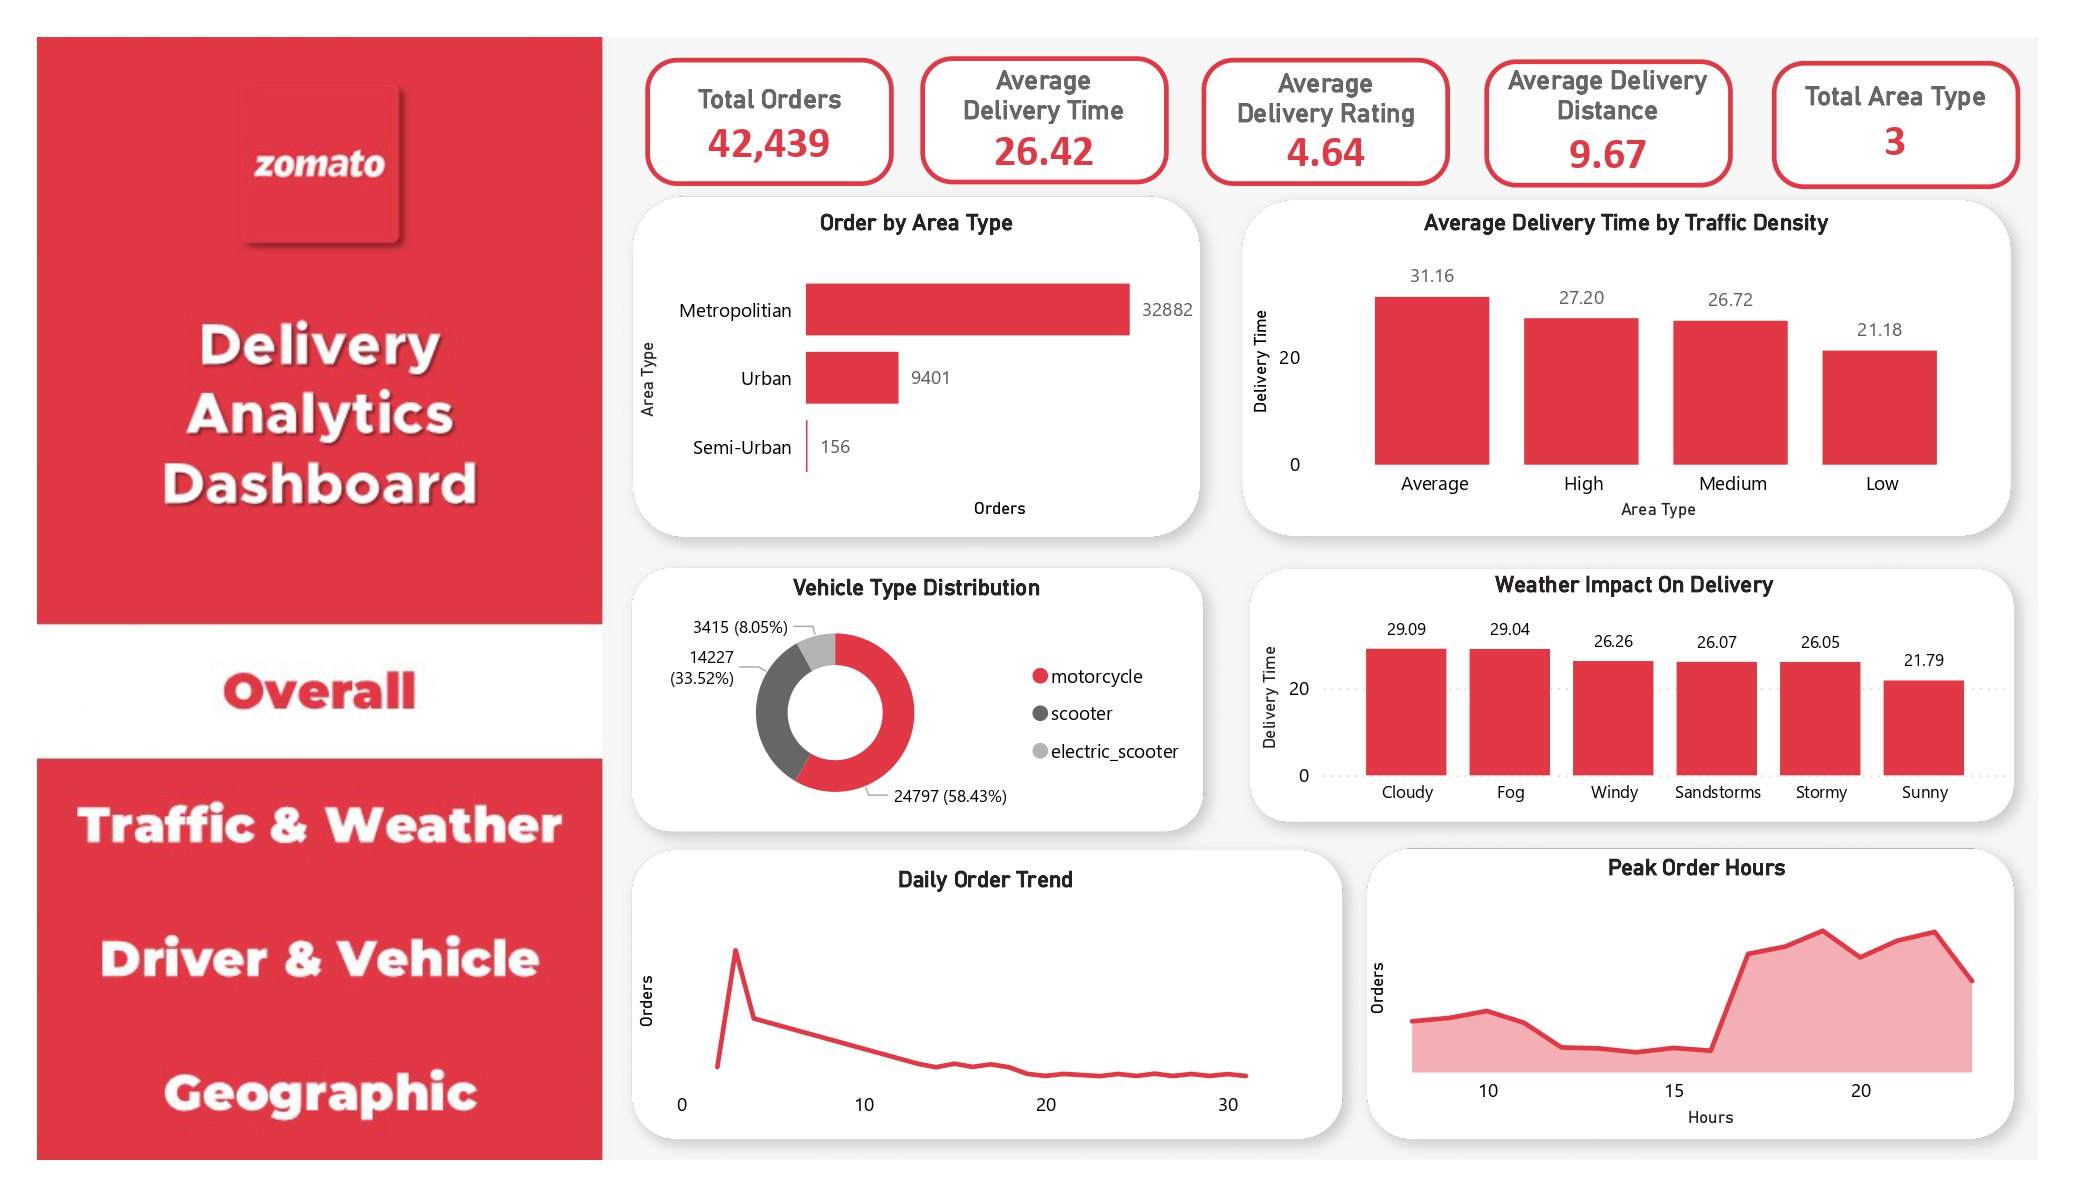

What the dashboard file says about the page in this screenshot:
{"tool":"powerbi","page":{"name":"Overall","canvas":[1280,720],"ordinal":1},"visuals":[{"type":"shape","box":[1109.7,15.5,158.6,81.8],"z":0,"group":"g2"},{"type":"shape","box":[365.7,87.4,392.8,248],"z":0,"group":"g12"},{"type":"actionButton","box":[0,461.1,363.6,87.8],"z":0},{"type":"shape","box":[926.4,14.5,158.6,81.8],"z":1000,"group":"g3"},{"type":"card","title":"Average Delivery Time","fields":{"Values":["Avg(Sorted_Zomato.Time_taken (min))"]},"box":[577.6,16.8,133.9,72.4],"z":1000,"group":"g11"},{"type":"card","title":"Average Delivery Rating","fields":{"Values":["Avg(Sorted_Zomato.Delivery_person_Ratings)"]},"box":[757.5,19.2,134.7,69.2],"z":1000,"group":"g9"},{"type":"card","title":"Total Area Type","fields":{"Values":["Count(Sorted_Zomato.City)"]},"box":[1116,27.5,146,57.9],"z":1000,"group":"g13"},{"type":"actionButton","box":[1.4,548.9,363.6,87.8],"z":1000},{"type":"shape","box":[745.5,12.9,158.6,81.8],"z":2000,"group":"g4"},{"type":"actionButton","box":[0,632.6,363.6,87.8],"z":2000},{"type":"shape","box":[565.2,12.1,158.6,81.8],"z":3000,"group":"g5"},{"type":"group","id":"g1","title":"Group 1","box":[389.1,13.4,158.6,81.8],"z":3000},{"type":"shape","box":[389.1,13.4,158.6,81.8],"z":4000,"group":"g1"},{"type":"group","id":"g2","title":"Group 2","box":[1109.7,15.5,158.6,81.8],"z":4000},{"type":"clusteredBarChart","title":"Order by Area Type","fields":{"Y":["Count(Sorted_Zomato.ID)"],"Category":["Sorted_Zomato.City"]},"box":[379.5,110.1,365.1,202.7],"z":4000,"group":"g12"},{"type":"group","id":"g3","title":"Group 6","box":[926.4,14.5,158.6,81.8],"z":5000},{"type":"card","title":"Average Delivery Distance","fields":{"Values":["Avg(Sorted_Zomato.Delivery_Distance_km)"]},"box":[932.7,17,146,76.8],"z":5000,"group":"g3"},{"type":"group","id":"g4","title":"Group 7","box":[745.5,12.9,158.6,81.8],"z":6000},{"type":"group","id":"g5","title":"Group 8","box":[565.2,12.1,158.6,81.8],"z":7000},{"type":"card","title":"Total Orders","fields":{"Values":["Count(Sorted_Zomato.ID)"]},"box":[401.7,29.8,133.4,55.4],"z":8000,"group":"g1"},{"type":"group","id":"g6","title":"Group 9","box":[365.1,323.6,395.7,199.1],"z":8000},{"type":"group","id":"g7","title":"Group 10","box":[761.2,325.4,518.8,191.8],"z":9000},{"type":"shape","box":[756.5,89.3,522.4,244.9],"z":10000,"group":"g14"},{"type":"group","id":"g8","title":"Group 11","box":[364.7,504.7,484.7,215.3],"z":10000},{"type":"group","id":"g9","title":"Group 3","box":[757.5,19.2,134.7,69.2],"z":11000,"group":"g4"},{"type":"clusteredColumnChart","title":"Average Delivery Time by Traffic Density","fields":{"Y":["Avg(Sorted_Zomato.Time_taken (min))"],"Category":["Sorted_Zomato.Road_traffic_density"]},"box":[772.8,110.4,489.7,202.7],"z":11000,"group":"g14"},{"type":"group","id":"g10","title":"Group 12","box":[835.7,504.3,444.3,215.7],"z":11000},{"type":"group","id":"g11","title":"Group 4","box":[577.6,16.8,133.9,72.4],"z":12000,"group":"g5"},{"type":"group","id":"g12","title":"Group 13","box":[365.7,87.4,392.8,248],"z":12000},{"type":"shape","box":[364.7,504.7,484.7,215.3],"z":12000,"group":"g8"},{"type":"group","id":"g13","title":"Group 5","box":[1116,27.5,146,57.9],"z":13000,"group":"g2"},{"type":"group","id":"g14","title":"Group 14","box":[756.5,89.3,522.4,244.9],"z":13000},{"type":"lineChart","title":"Daily Order Trend","fields":{"Y":["Count(Sorted_Zomato.ID)"],"Category":["Sorted_Zomato.Order_Date.Variation.Date Hierarchy.Day"]},"box":[379.2,530.8,455.7,170],"z":13000,"group":"g8"},{"type":"shape","box":[835.7,504.3,444.3,215.7],"z":14000,"group":"g10"},{"type":"shape","box":[761.2,325.4,518.8,191.8],"z":15000,"group":"g7"},{"type":"shape","box":[365.1,323.6,395.7,199.1],"z":16000,"group":"g6"},{"type":"areaChart","title":"Peak Order Hours","fields":{"Y":["Count(Sorted_Zomato.ID)"],"Category":["Sorted_Zomato.Order Hour"]},"box":[846.4,523.6,430,178.6],"z":17000,"group":"g10"},{"type":"donutChart","title":"Vehicle Type Distribution","fields":{"Y":["Count(Sorted_Zomato.ID)"],"Category":["Sorted_Zomato.Type_of_vehicle"]},"box":[380.5,344,365,158.3],"z":18000,"group":"g6"},{"type":"clusteredColumnChart","title":"Weather Impact On Delivery ","fields":{"Category":["Sorted_Zomato.Weather_conditions"],"Y":["Avg(Sorted_Zomato.Time_taken (min))"]},"box":[778.2,342.1,488.3,158.3],"z":19000,"group":"g7"}]}

Visuals, with their boxes on the page's 1280x720 design canvas (x1, y1, x2, y2). These are canvas units, not pixel positions in the 2075x1200 screenshot, which may show the page scaled, cropped or inside an application window:
shape: x1=1110 y1=16 x2=1268 y2=97
shape: x1=366 y1=87 x2=758 y2=335
actionButton: x1=0 y1=461 x2=364 y2=549
shape: x1=926 y1=14 x2=1085 y2=96
"Average Delivery Time" card: x1=578 y1=17 x2=712 y2=89
"Average Delivery Rating" card: x1=758 y1=19 x2=892 y2=88
"Total Area Type" card: x1=1116 y1=28 x2=1262 y2=85
actionButton: x1=1 y1=549 x2=365 y2=637
shape: x1=746 y1=13 x2=904 y2=95
actionButton: x1=0 y1=633 x2=364 y2=720
shape: x1=565 y1=12 x2=724 y2=94
"Group 1" group: x1=389 y1=13 x2=548 y2=95
shape: x1=389 y1=13 x2=548 y2=95
"Group 2" group: x1=1110 y1=16 x2=1268 y2=97
"Order by Area Type" clusteredBarChart: x1=380 y1=110 x2=745 y2=313
"Group 6" group: x1=926 y1=14 x2=1085 y2=96
"Average Delivery Distance" card: x1=933 y1=17 x2=1079 y2=94
"Group 7" group: x1=746 y1=13 x2=904 y2=95
"Group 8" group: x1=565 y1=12 x2=724 y2=94
"Total Orders" card: x1=402 y1=30 x2=535 y2=85
"Group 9" group: x1=365 y1=324 x2=761 y2=523
"Group 10" group: x1=761 y1=325 x2=1280 y2=517
shape: x1=756 y1=89 x2=1279 y2=334
"Group 11" group: x1=365 y1=505 x2=849 y2=720
"Group 3" group: x1=758 y1=19 x2=892 y2=88
"Average Delivery Time by Traffic Density" clusteredColumnChart: x1=773 y1=110 x2=1262 y2=313
"Group 12" group: x1=836 y1=504 x2=1280 y2=720
"Group 4" group: x1=578 y1=17 x2=712 y2=89
"Group 13" group: x1=366 y1=87 x2=758 y2=335
shape: x1=365 y1=505 x2=849 y2=720
"Group 5" group: x1=1116 y1=28 x2=1262 y2=85
"Group 14" group: x1=756 y1=89 x2=1279 y2=334
"Daily Order Trend" lineChart: x1=379 y1=531 x2=835 y2=701
shape: x1=836 y1=504 x2=1280 y2=720
shape: x1=761 y1=325 x2=1280 y2=517
shape: x1=365 y1=324 x2=761 y2=523
"Peak Order Hours" areaChart: x1=846 y1=524 x2=1276 y2=702
"Vehicle Type Distribution" donutChart: x1=380 y1=344 x2=746 y2=502
"Weather Impact On Delivery " clusteredColumnChart: x1=778 y1=342 x2=1266 y2=500
